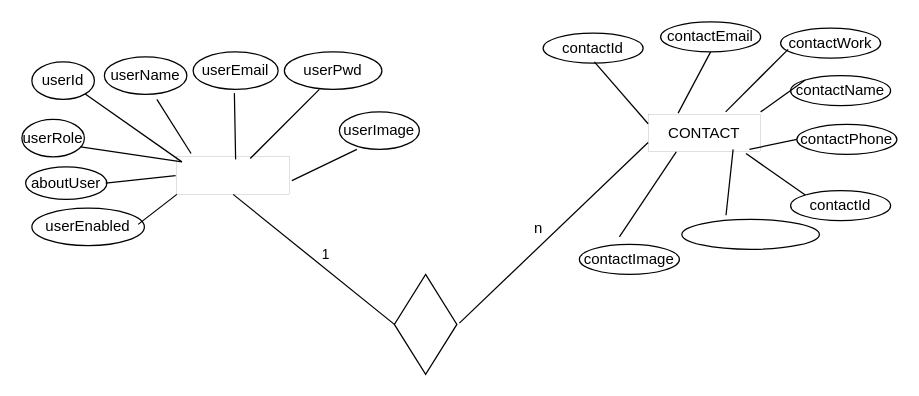
Image size: 919x396. Some labels were removed from this diagram. Each missing label, with the box of its shape:
contactNickname: (681, 218, 819, 249)
has: (393, 273, 457, 374)
USER: (176, 156, 289, 194)
